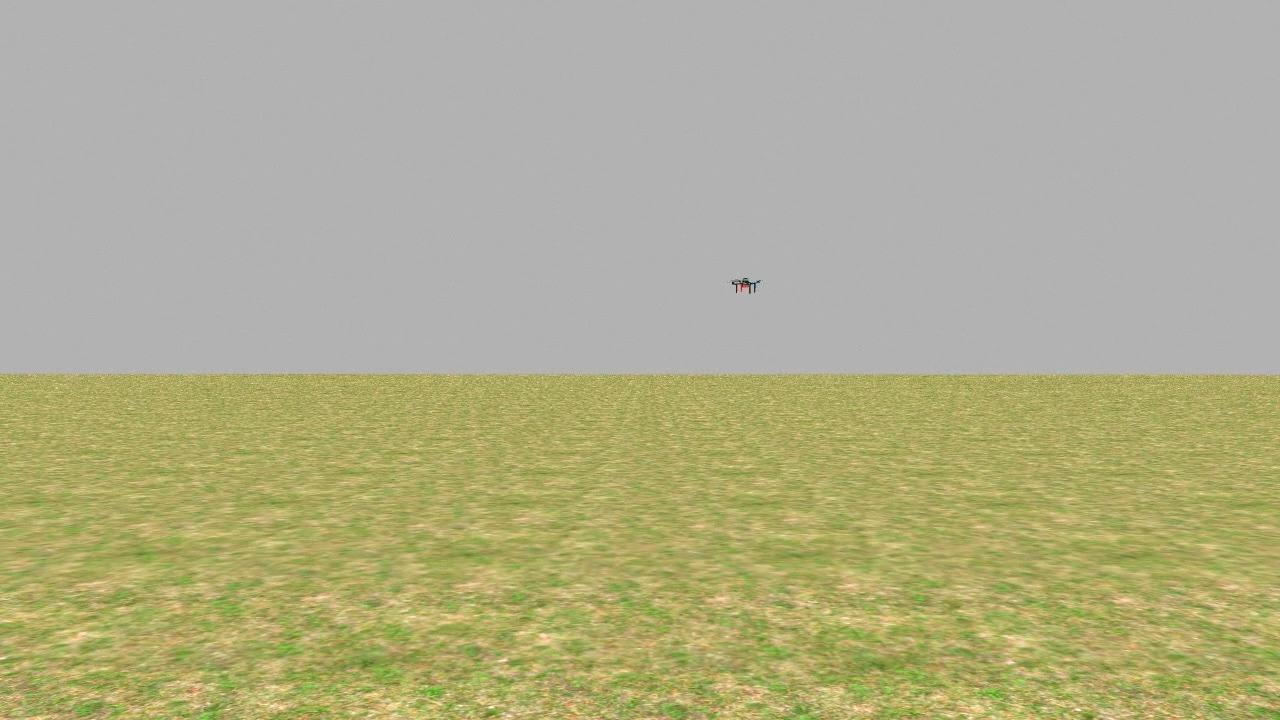UAV: (725, 266, 769, 304)
